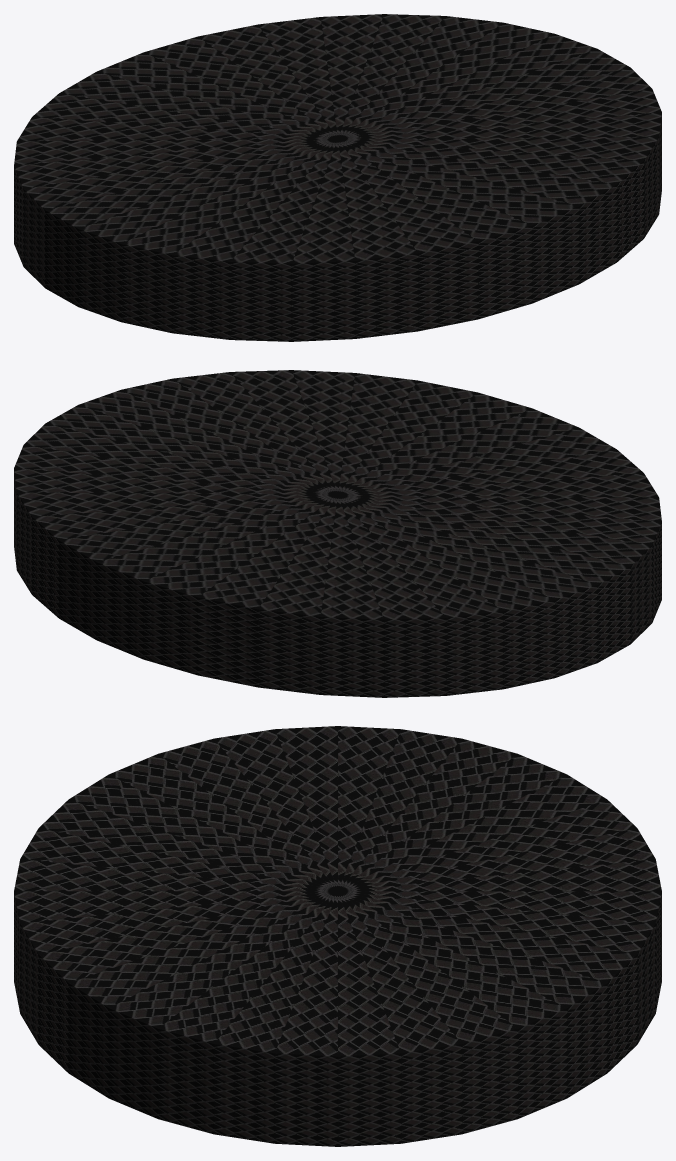
File: puck.obj
3 views of the same model, one above another, from view 1: azimuth 30°, elevation 25°; view 2: azimuth 150°, elevation 25°; view 3: azimuth 270°, elevation 25° (orthographic). The views are drawn at different scales.
Parts seen in each view (by area): view 1: Cylinder; view 2: Cylinder; view 3: Cylinder.
Boxes of the visible parts, box(x1,y1,x2,y2) form: Cylinder: box(14, 14, 661, 341); Cylinder: box(14, 370, 661, 697); Cylinder: box(14, 726, 661, 1146).
Bounding box in the file's own units: 0.5129 × 0.0654 × 0.4248.
